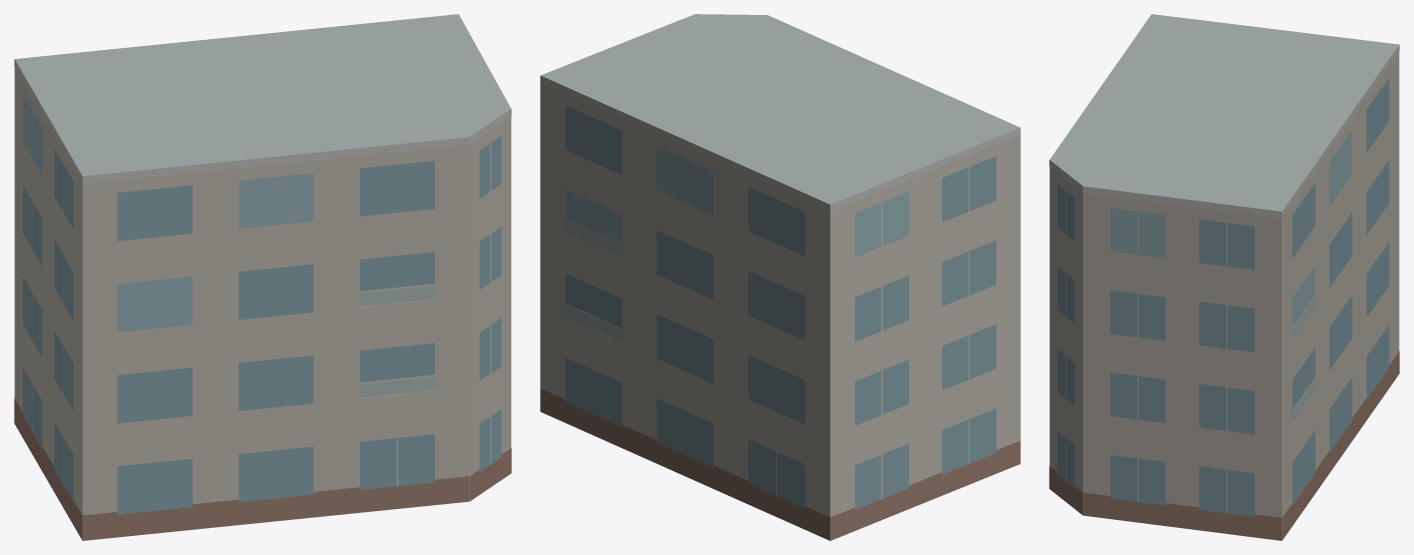
File: survey-upis-32879212.glb
The picture shows the model from 3 angles, left to right: view 1: azimuth 30°, elevation 25°; view 2: azimuth 150°, elevation 25°; view 3: azimuth 270°, elevation 25°; orthographic projection. The views are drawn at different scales.
Visible parts, largest first — view 1: survey-upis-32879212.tmp; view 2: survey-upis-32879212.tmp; view 3: survey-upis-32879212.tmp.
Part boxes in pixels (left/top/right/bottom): survey-upis-32879212.tmp: left=14, top=14, right=511, bottom=540; survey-upis-32879212.tmp: left=540, top=14, right=1020, bottom=540; survey-upis-32879212.tmp: left=1049, top=14, right=1399, bottom=540.
Size of the model in its own units: 15.2 by 11.8 by 11.37.
